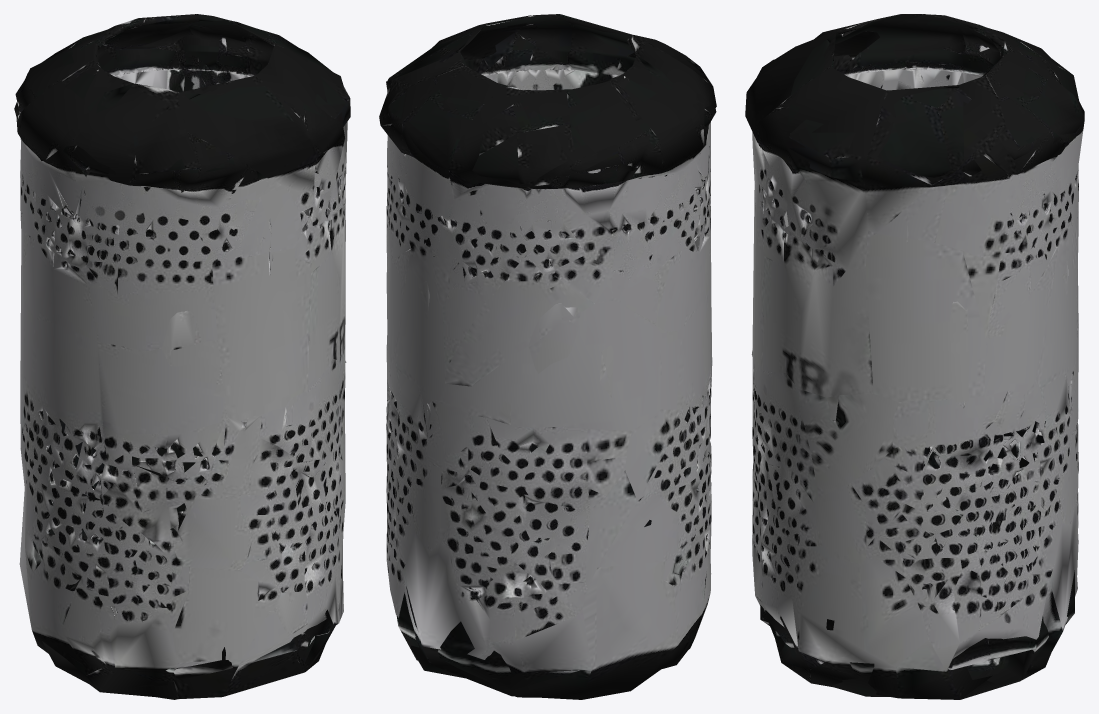
The model's file is trash-can.glb.
The picture shows the model from 3 angles, left to right: view 1: azimuth 30°, elevation 25°; view 2: azimuth 150°, elevation 25°; view 3: azimuth 270°, elevation 25°; orthographic projection.
Bounding box in the file's own units: 0.9852 × 1.9 × 0.9887.
Materials: 1 (1 with a texture image).
